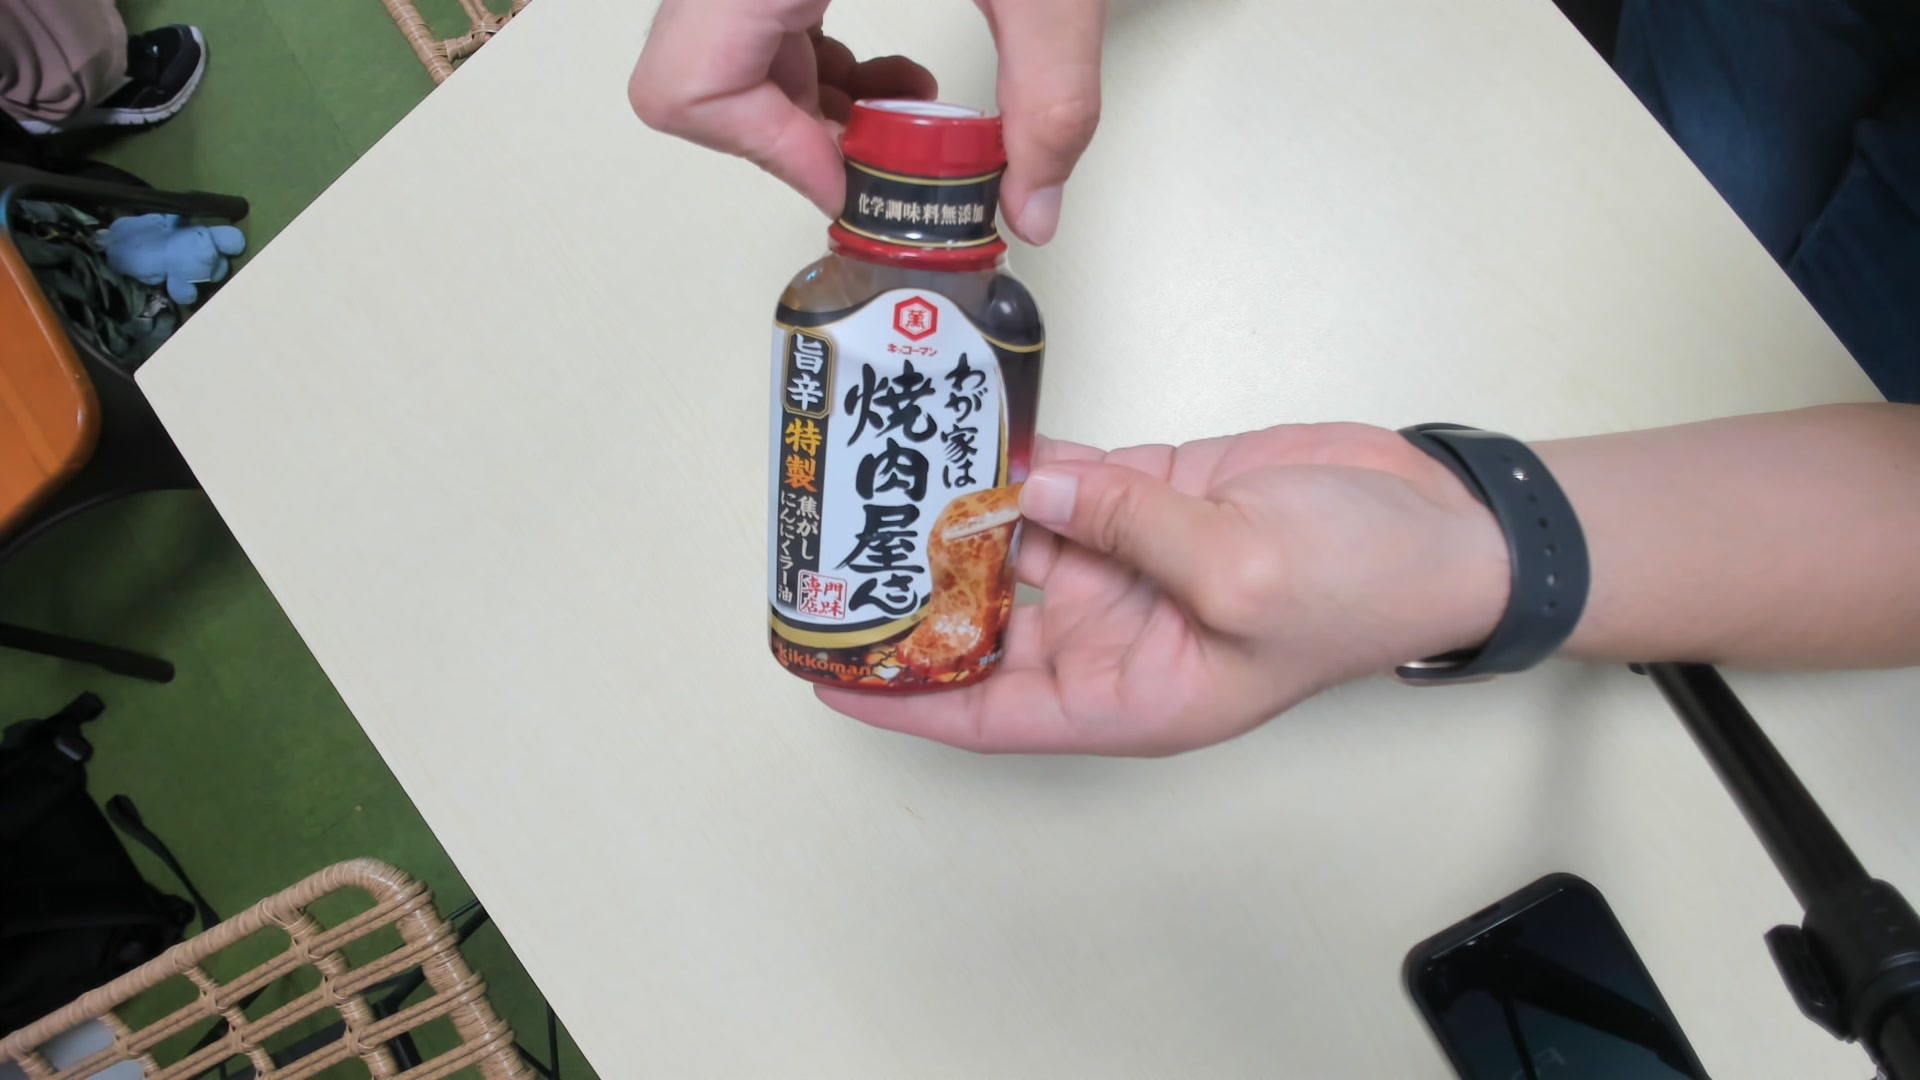OtherSauceDressing_200-299g_NonHalal_NonHealthy: (753, 94, 1040, 688)
